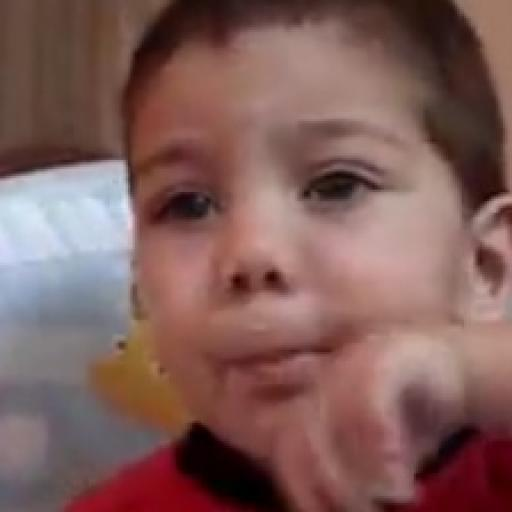Autism: (91, 10, 512, 486)
